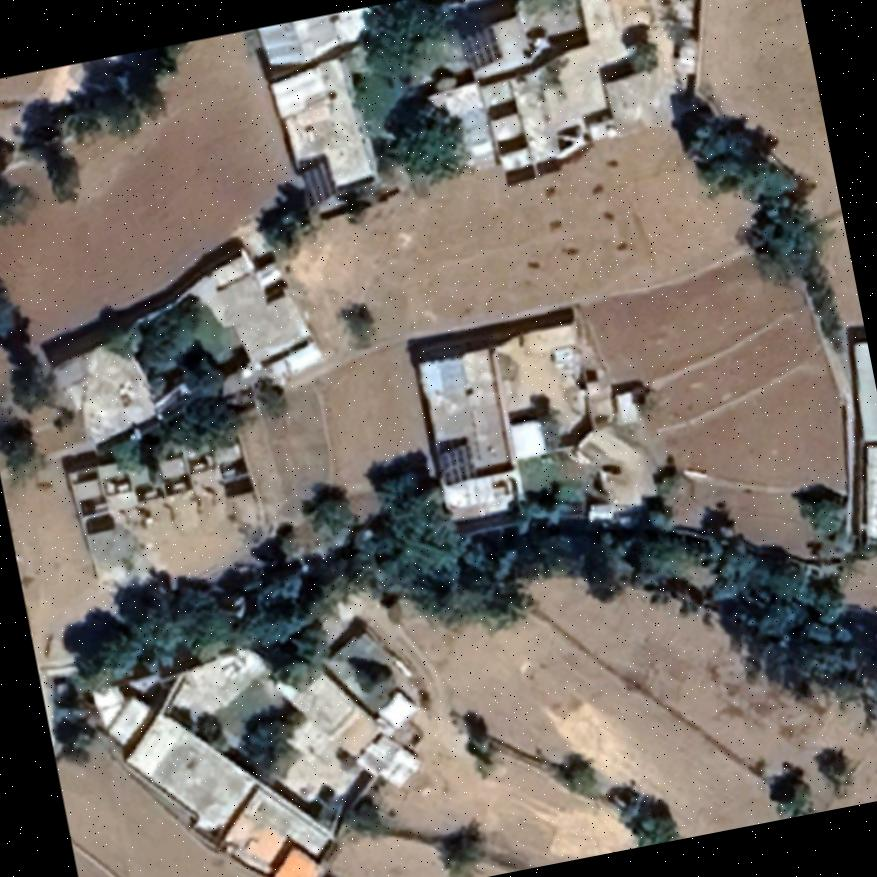Solarpanel: (452, 19, 504, 74), (291, 152, 340, 210), (430, 437, 478, 489)
